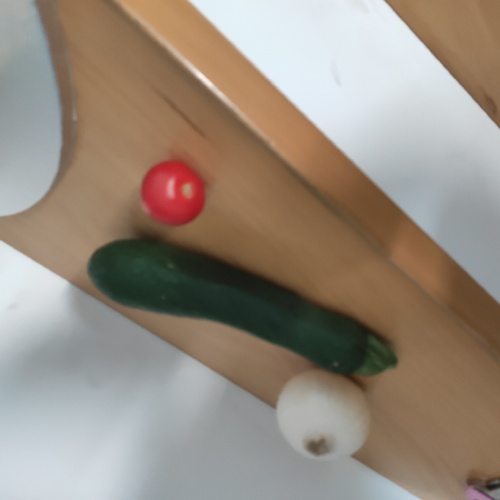cipolla: (271, 368, 390, 481)
pomodoro: (138, 155, 203, 229)
zucchine: (95, 234, 405, 375)
